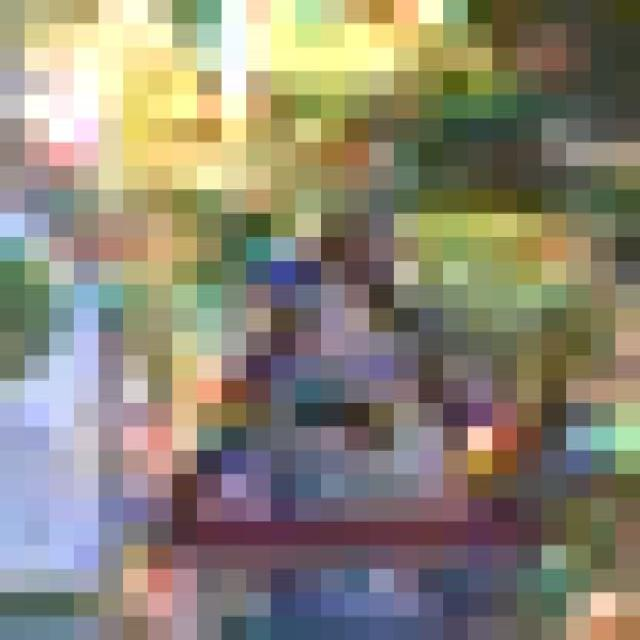Slippery Road Ahead: (123, 237, 517, 569)
